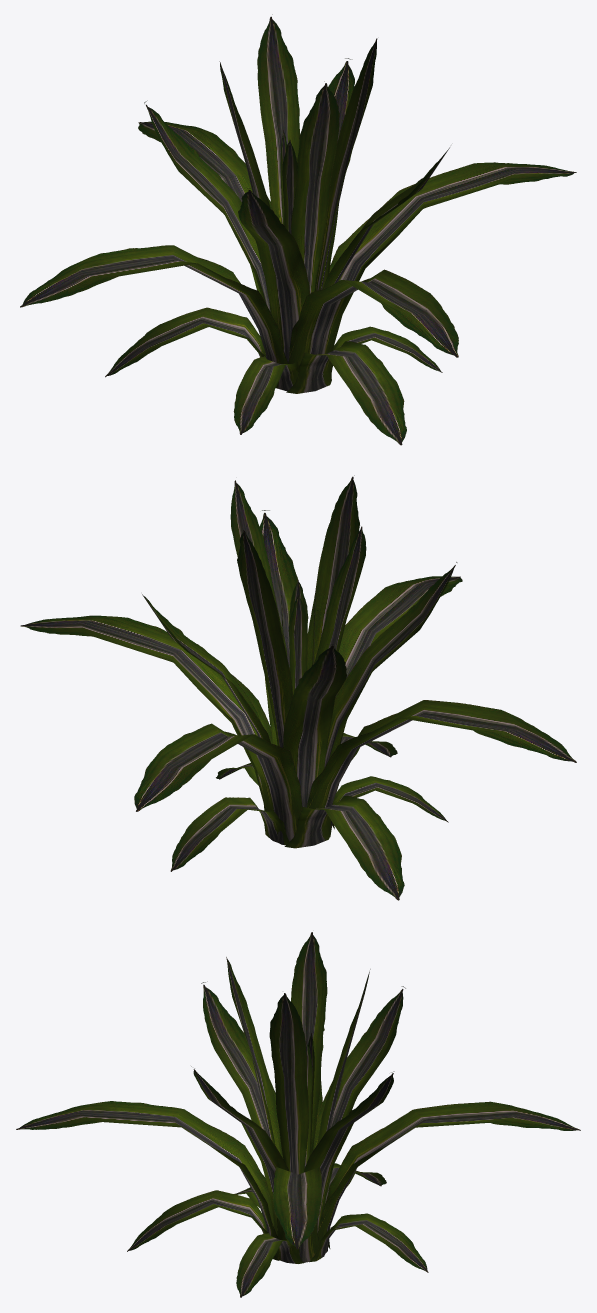
The model's file is tropical-plant.glb.
The picture shows the model from 3 angles, top to bottom: view 1: azimuth 30°, elevation 25°; view 2: azimuth 150°, elevation 25°; view 3: azimuth 270°, elevation 25°; orthographic projection. The views are drawn at different scales.
Bounding box in the file's own units: 299 × 169 × 299.
1 material, 1 textured.
